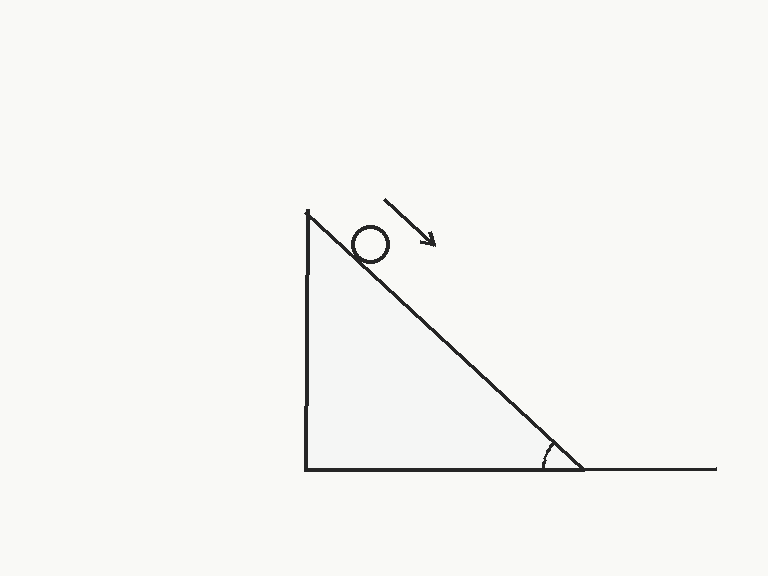ball: (349, 223, 391, 265)
ramp: (303, 208, 585, 471)
